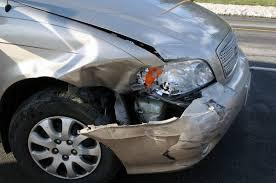Headlight-Damage: (132, 61, 214, 109)
fender-dent: (0, 13, 142, 93)
front-bumper-dent: (140, 91, 232, 160)
